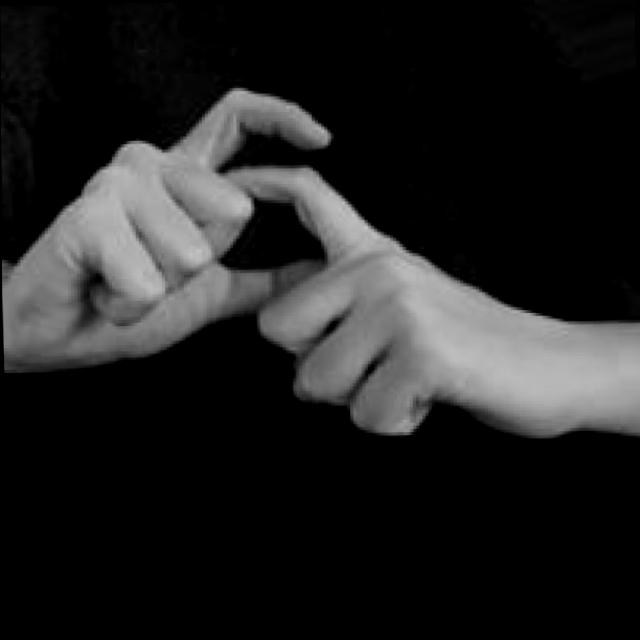G: (1, 64, 640, 457)
